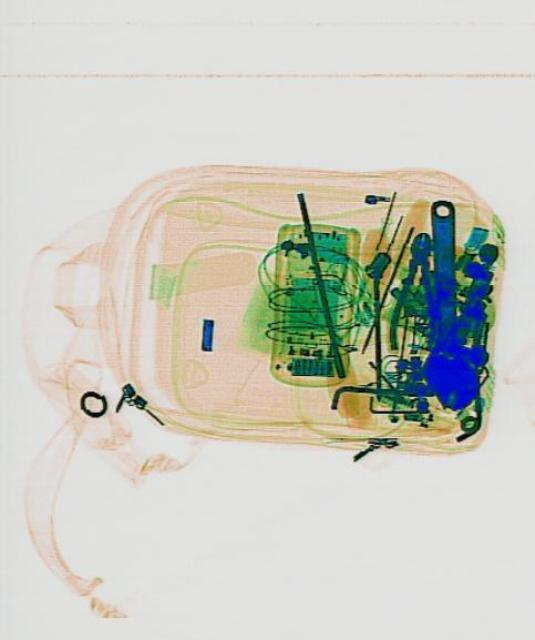Pliers: (387, 228, 444, 352)
Wrench: (415, 198, 476, 412)
